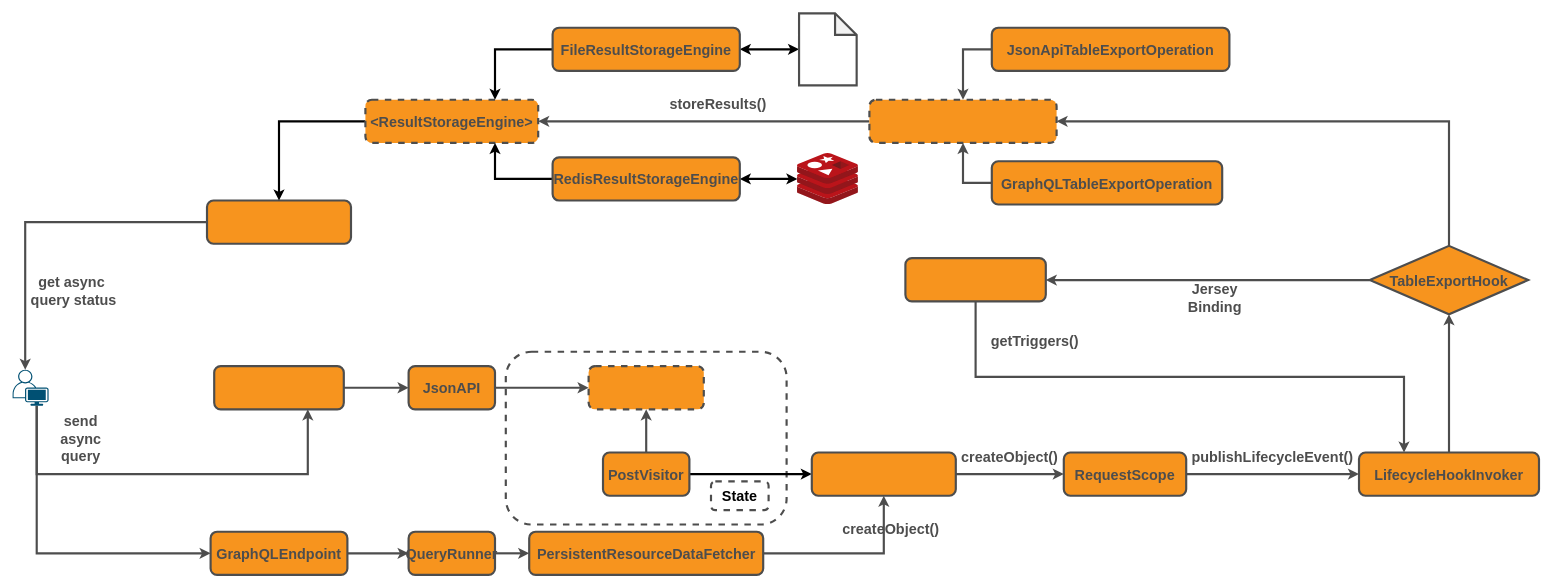
Some shapes in this 1552 by 588 pixel diagram are drawn without their labels. Each missing label, with the centre of its shape:
<BaseVisotor>: (x=646, y=387)
EntityDictionary: (x=975, y=279)
ExportApiEndpoint: (x=279, y=221)
JsonApiEndpoint: (x=279, y=387)
Local FS: (x=827, y=49)
PersistentResource: (x=883, y=473)
TableExportOperation: (x=962, y=121)
